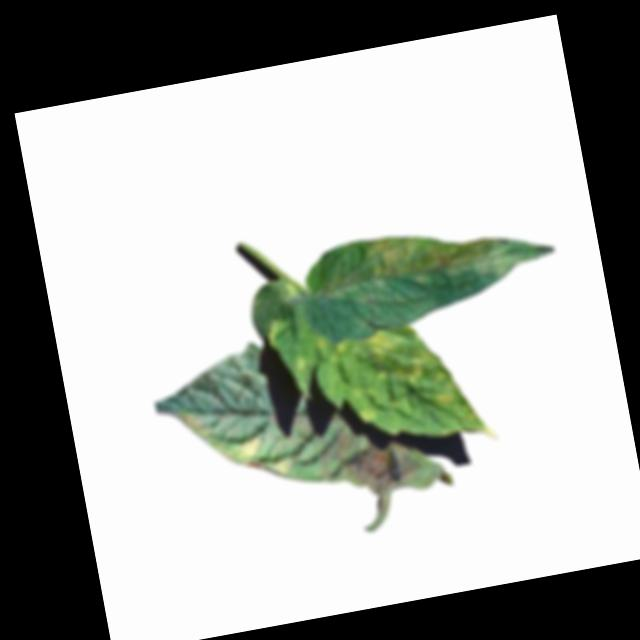Leaf_Mold: (359, 206, 559, 298), (177, 395, 296, 495), (356, 328, 397, 367), (386, 355, 431, 390), (431, 381, 461, 408)
